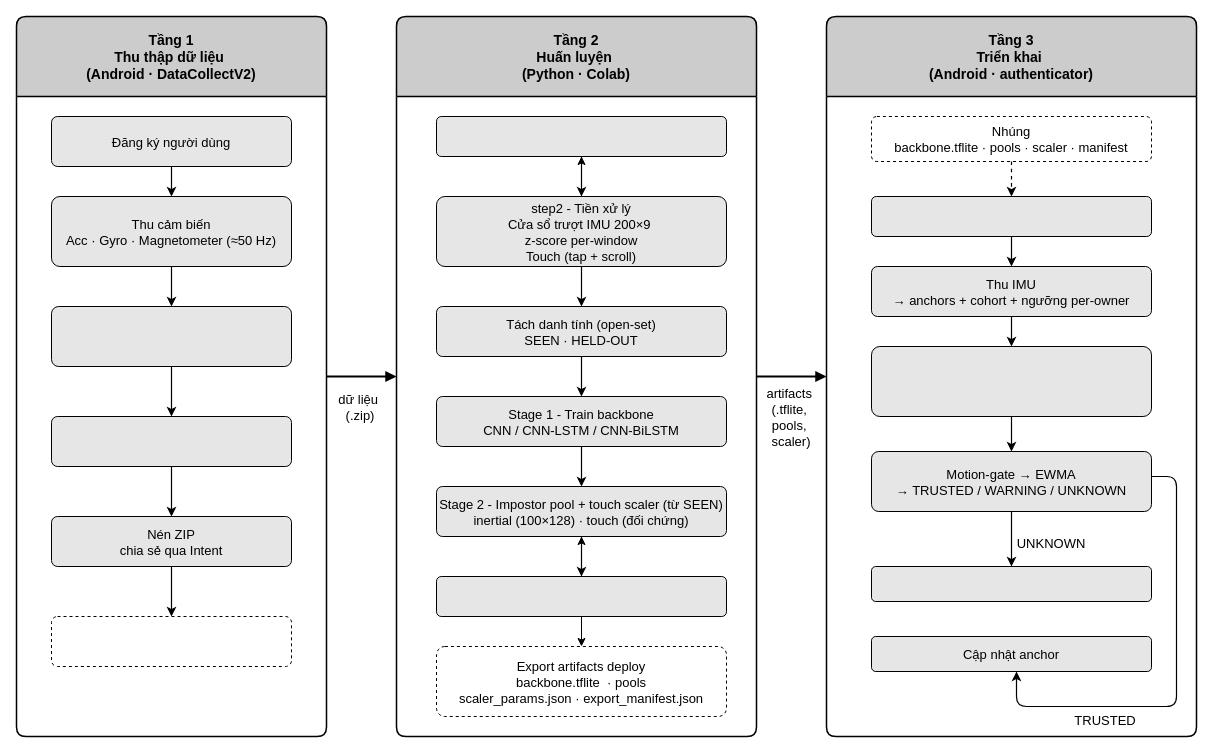
The diagram is 1213 pixels wide and 753 high, and some of its shapes have lost their labels. The centre of each missing label's shape, as x and y in pixels:
Chấm điểm cosine → z-norm (cohort) → sigmoid: the point at 1011,381
Enrollment: the point at 1011,216
Fallback: the point at 1011,584
Ghi theo phiên (.csv): the point at 171,441
Stage 3 — Đánh giá (open-set + closed-set): the point at 581,596
step1 - Kiểm tra chất lượng dữ liệu: the point at 581,136
Thu hành vi chạm Tap · Scroll: the point at 171,336
Đầu ra: bộ dữ liệu thô có nhãn (26 người · ~6 phiên/người): the point at 171,641
